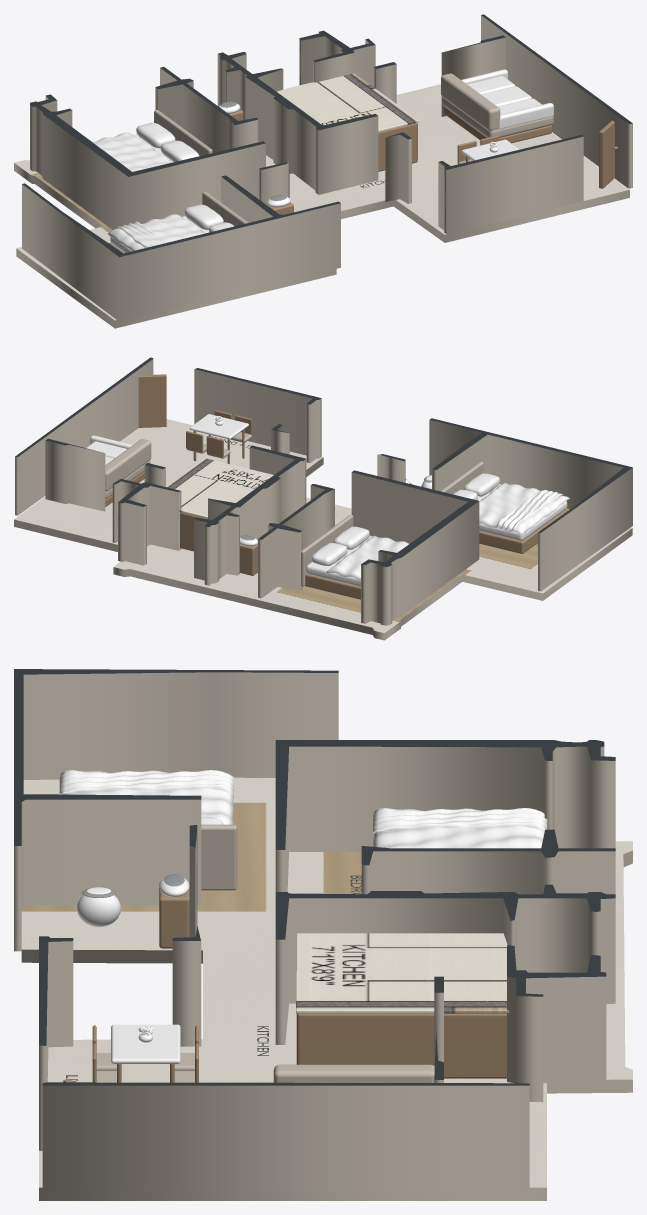
The model's file is coral-group-unit-03.glb.
3 renders of one model, top to bottom at view 1: azimuth 30°, elevation 25°; view 2: azimuth 150°, elevation 25°; view 3: azimuth 270°, elevation 25°, orthographic. The views are drawn at different scales.
Parts seen in each view (by area): view 1: Partition walls, Apartment floor, Stone worktop, Sofa back, Draped bed linen, Draped bed linen.002, Upholstered sofa frame, Open oak door, Padded armrest, Upholstered headboard, Sofa plinth, Kitchen cabinets (+8 smaller); view 2: Partition walls, Apartment floor, Stone worktop, Draped bed linen.002, Open oak door, Draped bed linen, Sofa back, Draped bed linen.003, Walnut upholstered base.001, Upholstered headboard, Marble dining top, Walnut upholstered base (+8 smaller); view 3: Partition walls, Apartment floor, Stone worktop, Kitchen cabinets, Draped bed linen, Draped bed linen.003, Draped bed linen.001, Sofa back, Marble dining top, Upholstered headboard.001, Draped bed linen.002, Vanity cabinet.001 (+1 smaller).
Boxes of the visible parts, x1=… form: Partition walls: x1=22, y1=14, x2=632, y2=321; Apartment floor: x1=14, y1=84, x2=629, y2=328; Stone worktop: x1=277, y1=73, x2=418, y2=132; Sofa back: x1=441, y1=73, x2=500, y2=130; Draped bed linen: x1=93, y1=132, x2=171, y2=171; Draped bed linen.002: x1=107, y1=214, x2=204, y2=250; Upholstered sofa frame: x1=442, y1=97, x2=553, y2=137; Open oak door: x1=599, y1=120, x2=614, y2=188; Padded armrest: x1=489, y1=103, x2=553, y2=131; Upholstered headboard: x1=154, y1=110, x2=212, y2=155; Sofa plinth: x1=443, y1=106, x2=552, y2=143; Kitchen cabinets: x1=378, y1=123, x2=417, y2=171; Partition walls: x1=15, y1=357, x2=632, y2=625; Apartment floor: x1=14, y1=419, x2=632, y2=640; Stone worktop: x1=165, y1=458, x2=273, y2=518; Draped bed linen.002: x1=479, y1=482, x2=570, y2=534; Open oak door: x1=138, y1=374, x2=166, y2=427; Draped bed linen: x1=326, y1=535, x2=408, y2=580; Sofa back: x1=105, y1=439, x2=151, y2=491; Draped bed linen.003: x1=495, y1=490, x2=563, y2=531; Walnut upholstered base.001: x1=479, y1=508, x2=569, y2=553; Upholstered headboard: x1=301, y1=515, x2=353, y2=586; Marble dining top: x1=189, y1=414, x2=248, y2=439; Walnut upholstered base: x1=305, y1=573, x2=360, y2=599; Partition walls: x1=14, y1=669, x2=615, y2=1190; Apartment floor: x1=21, y1=777, x2=632, y2=1200; Stone worktop: x1=296, y1=933, x2=509, y2=1013; Kitchen cabinets: x1=296, y1=1013, x2=506, y2=1078; Draped bed linen: x1=373, y1=808, x2=544, y2=848; Draped bed linen.003: x1=59, y1=770, x2=233, y2=797; Draped bed linen.001: x1=373, y1=808, x2=547, y2=833; Sofa back: x1=273, y1=1064, x2=434, y2=1082; Marble dining top: x1=111, y1=1024, x2=180, y2=1063; Upholstered headboard.001: x1=201, y1=824, x2=237, y2=890; Draped bed linen.002: x1=60, y1=770, x2=233, y2=824; Vanity cabinet.001: x1=159, y1=883, x2=189, y2=948.
Size of the model in its own units: 10.89 by 1.44 by 6.81.
Materials: 12 (2 with a texture image).
